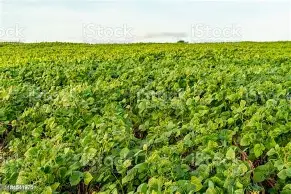crops: (0, 40, 288, 193), (97, 51, 184, 96), (32, 138, 104, 191), (178, 141, 248, 191), (2, 40, 111, 72), (225, 62, 291, 111), (126, 86, 189, 137), (201, 39, 291, 65), (107, 145, 157, 191), (245, 143, 291, 190), (0, 79, 49, 122), (85, 98, 130, 138), (45, 84, 97, 114), (125, 40, 210, 57), (30, 114, 73, 142), (200, 116, 230, 139), (1, 158, 24, 186), (48, 69, 71, 89), (102, 79, 122, 97), (170, 161, 190, 178), (182, 153, 197, 168), (0, 85, 13, 102)
